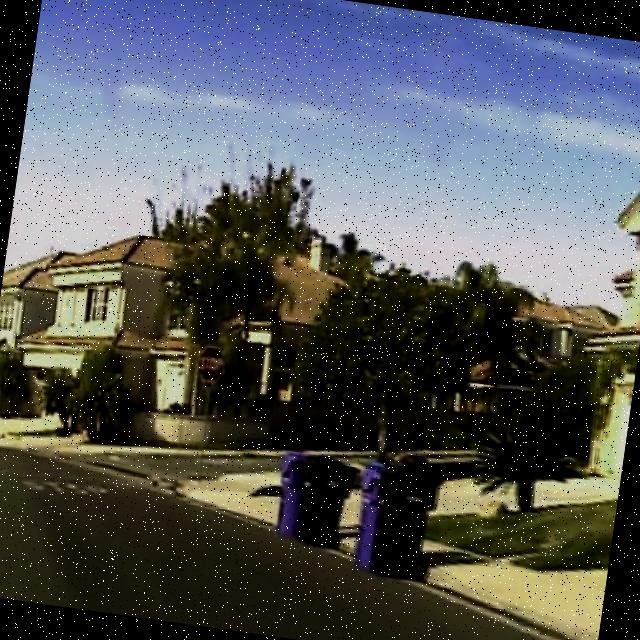Stop: (195, 342, 229, 387)
